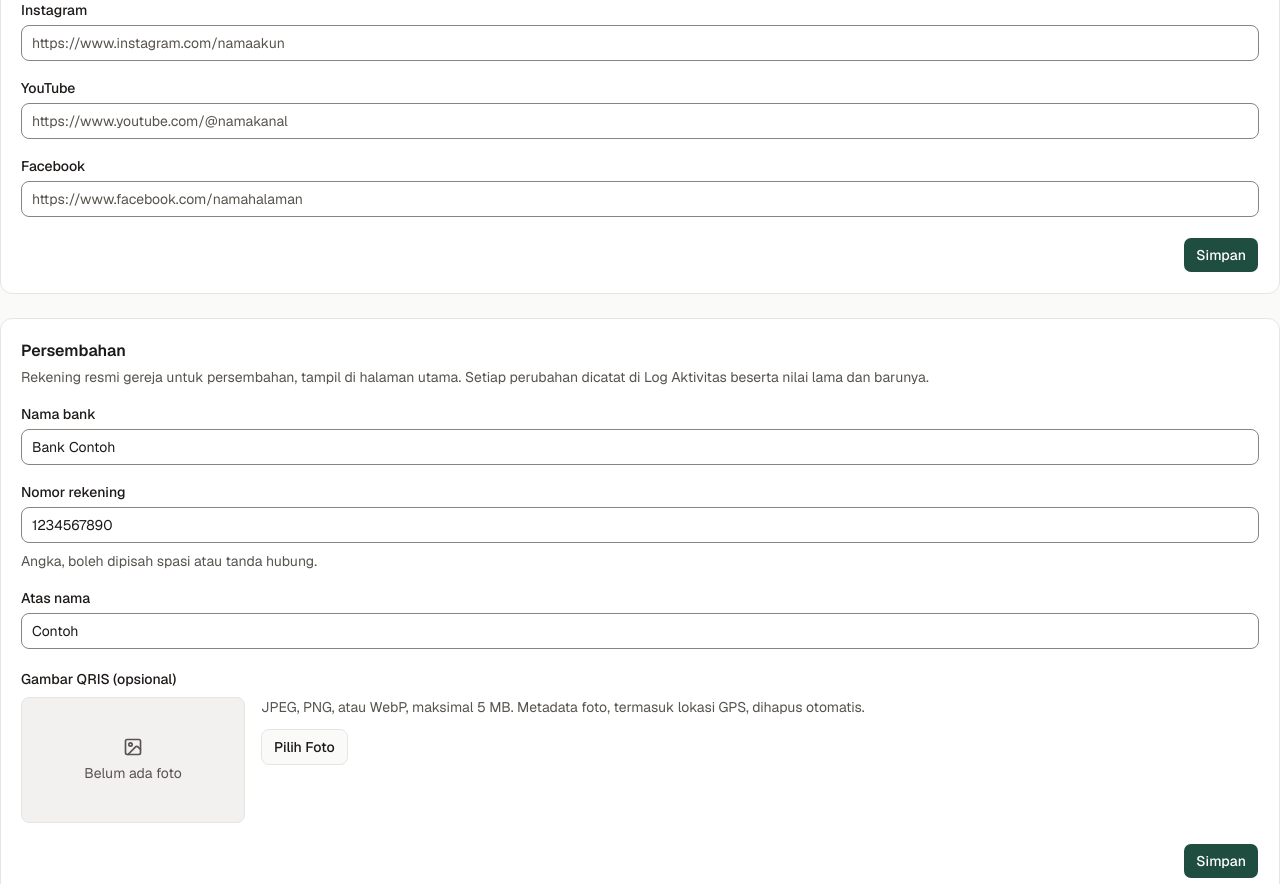
Test: ProfilGerejaEditor › checks the Persembahan account fields are all filled or all empty
The width and height of the screenshot is (1280, 884).
(page scrolled)
Clear the field labelled "Atas nama" at (640, 631), box 21,613 -> 1259,649
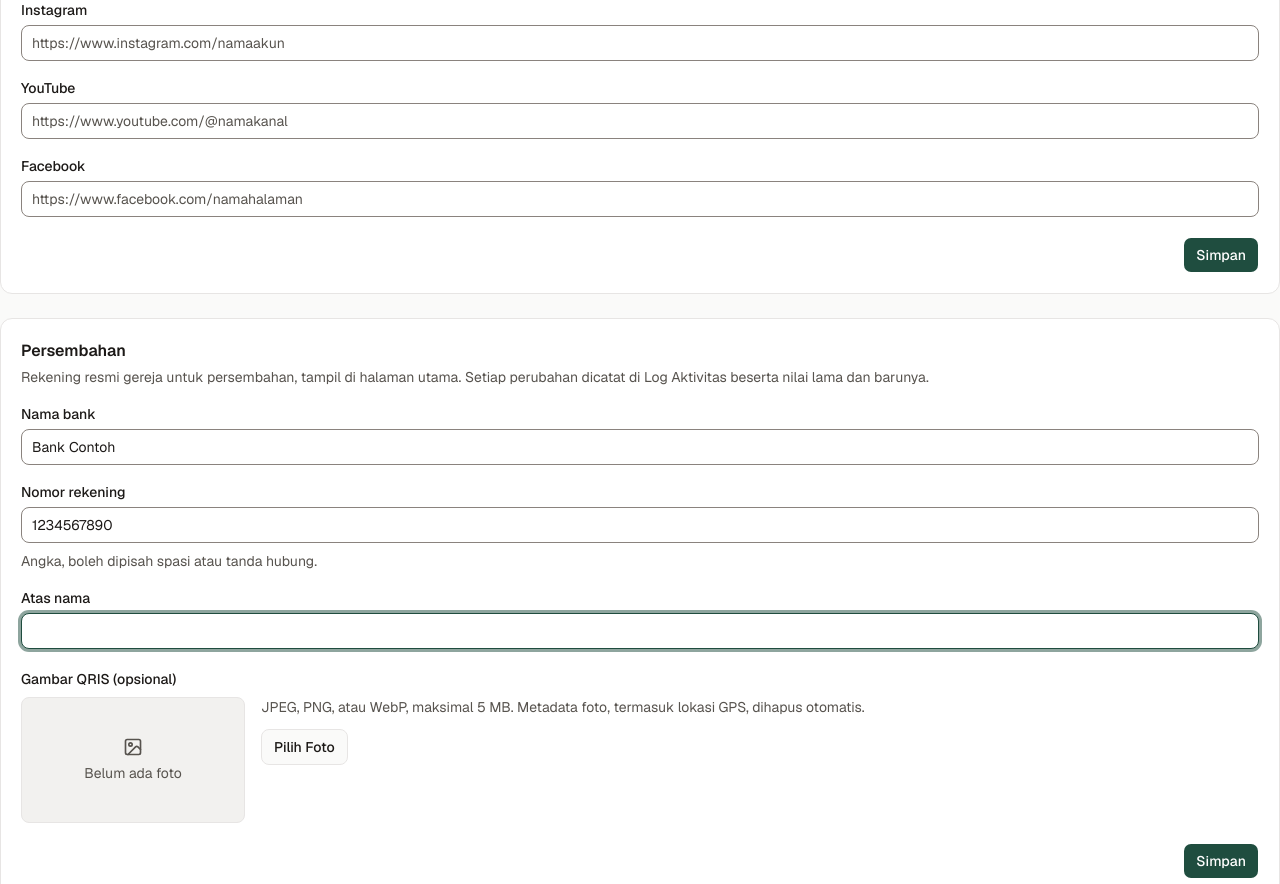
Click the 2nd button "Simpan" at (1221, 861), box 1183,843 -> 1259,879
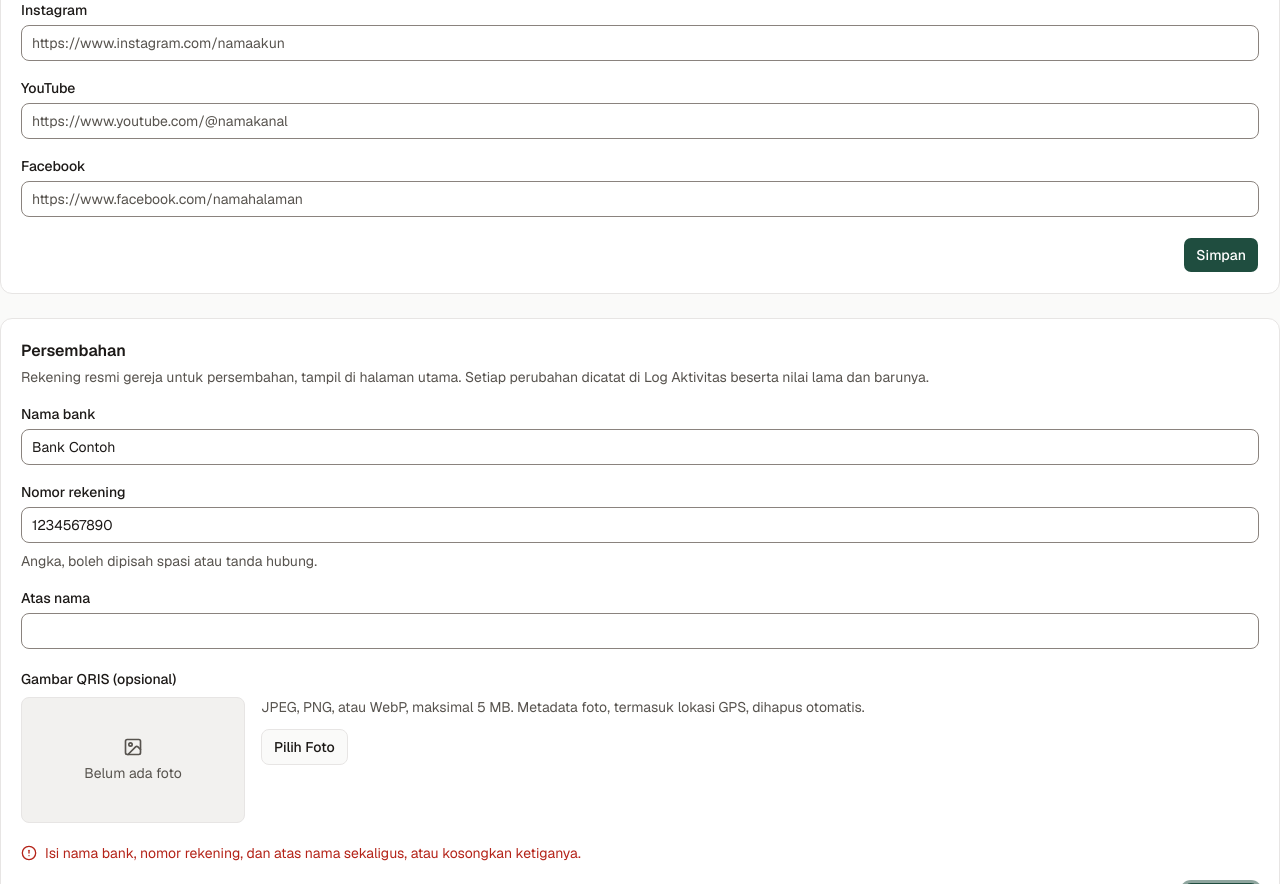
Check: the message shows "Isi nama bank, nomor rekening, dan atas nama sekaligus, atau kosongkan ketiganya.", box 45,844 -> 581,862
